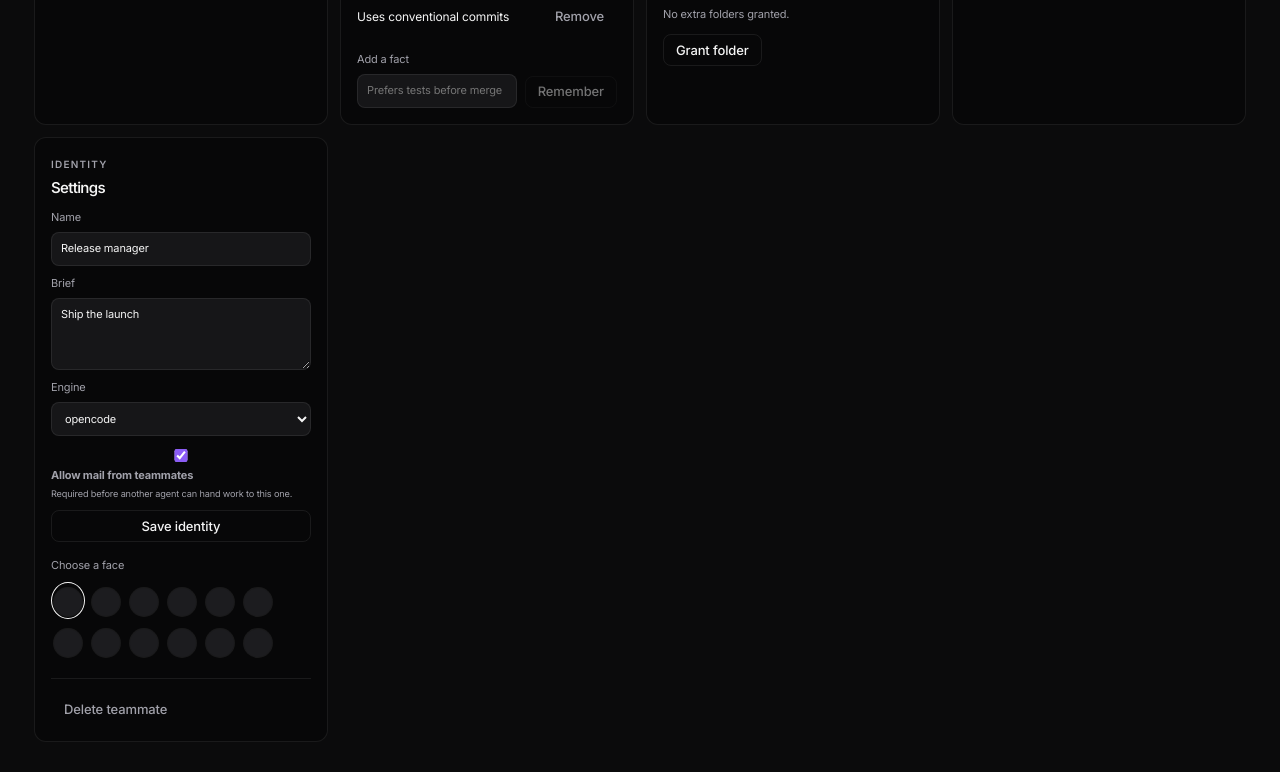
Test case: keeps the teammate and shows the gear error when delete fails
This screenshot has width=1280, height=772.
(page scrolled)
Step 1. Click the button with aria-label "Delete Release manager" → (116, 709), box [51,693,180,725]
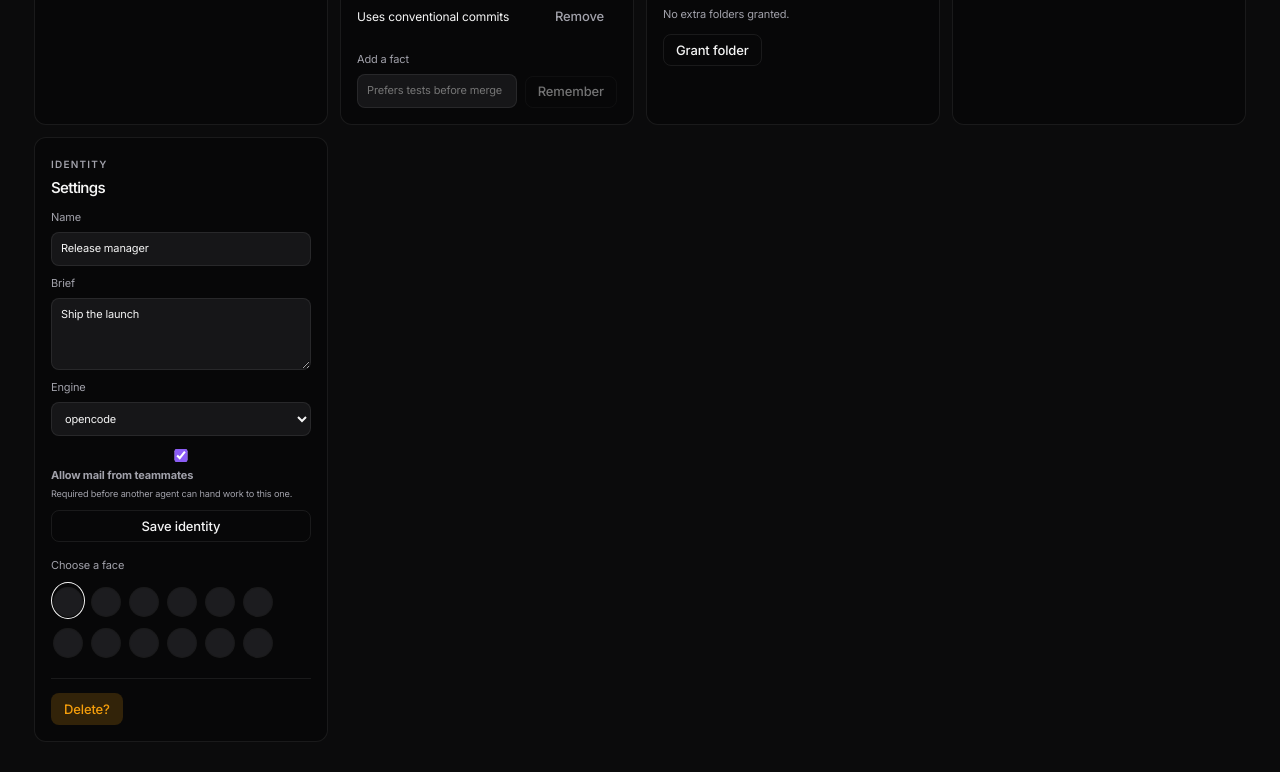
Step 2. Click the button with aria-label "Delete Release manager" → (87, 709), box [51,693,123,725]
(page scrolled)
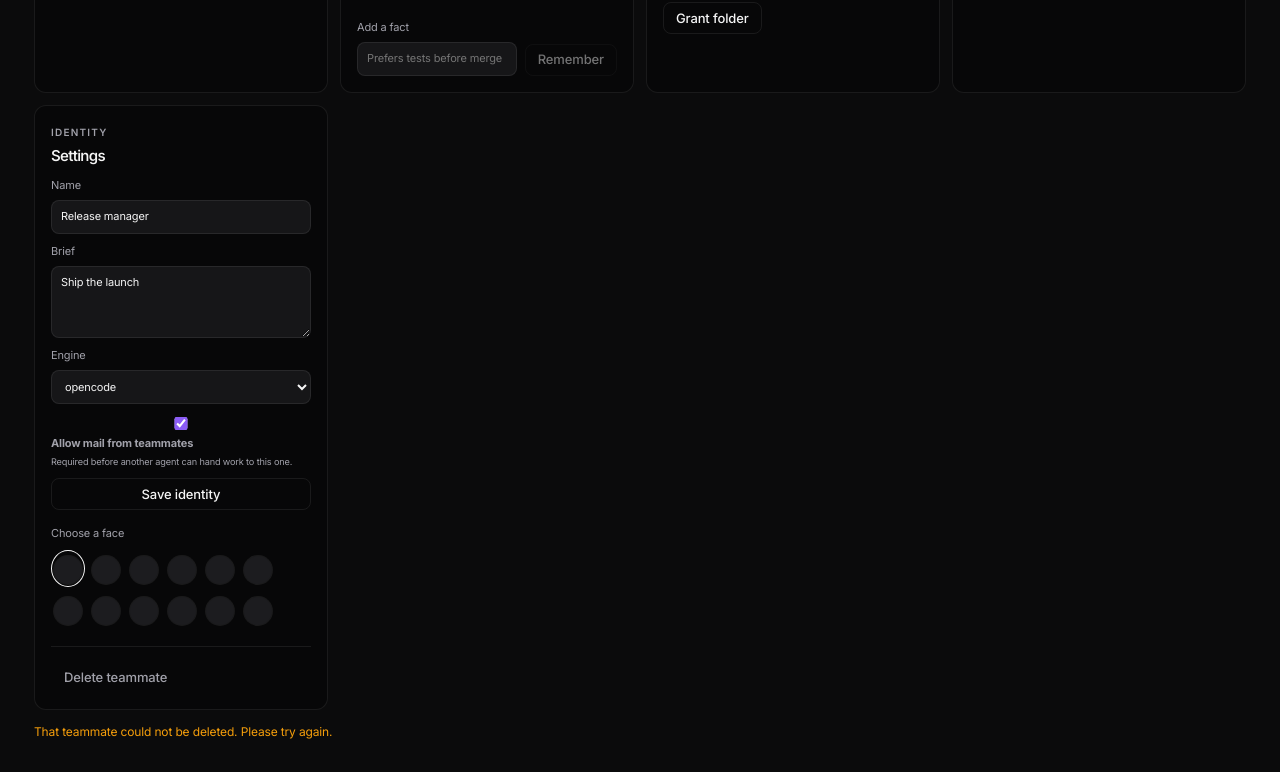
Result: the message shows "could not be deleted" at [34,724,332,739]
